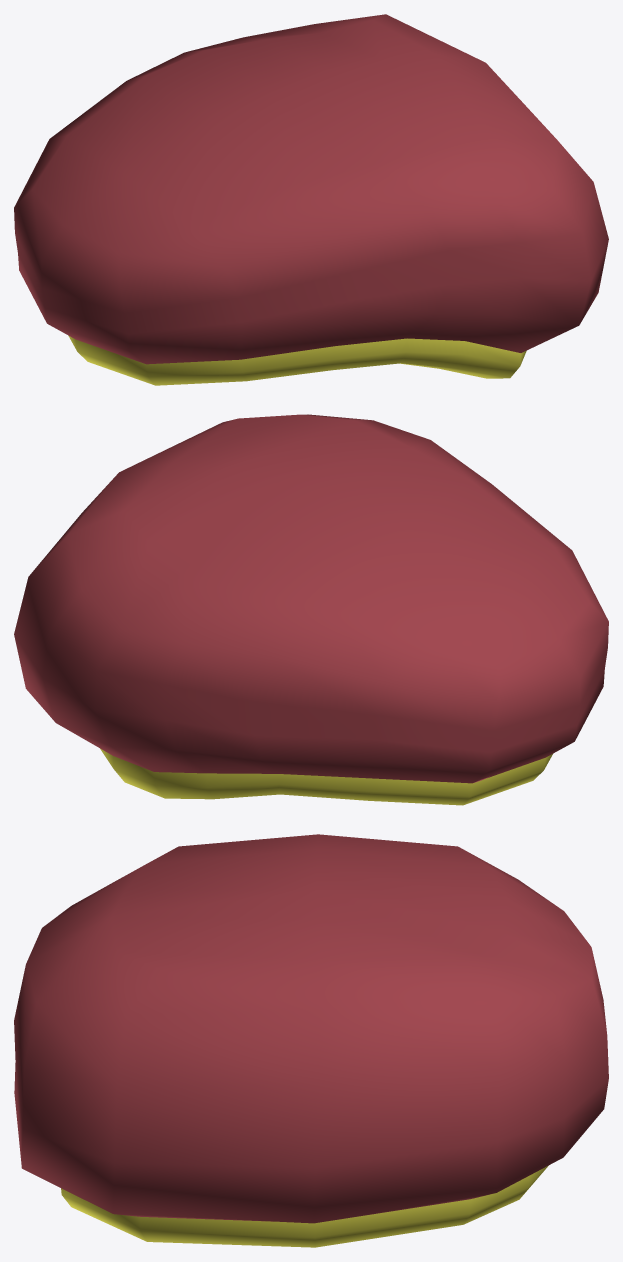
The model's file is Head_10.fbx.
3 views of the same model, one above another, from view 1: azimuth 30°, elevation 25°; view 2: azimuth 150°, elevation 25°; view 3: azimuth 270°, elevation 25° (orthographic). The views are drawn at different scales.
Parts seen in each view (by area): view 1: Cube.015; view 2: Cube.015; view 3: Cube.015.
Boxes of the visible parts, x1=… form: Cube.015: x1=14, y1=14, x2=608, y2=385; Cube.015: x1=14, y1=414, x2=608, y2=805; Cube.015: x1=14, y1=834, x2=608, y2=1247.
Size of the model in its own units: 45.01 by 22.24 by 40.97.
